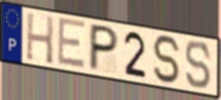2: (122, 30, 147, 81)
E: (57, 15, 87, 70)
H: (25, 10, 56, 67)
P: (87, 22, 121, 73)
S: (151, 34, 183, 86), (184, 39, 212, 91)
